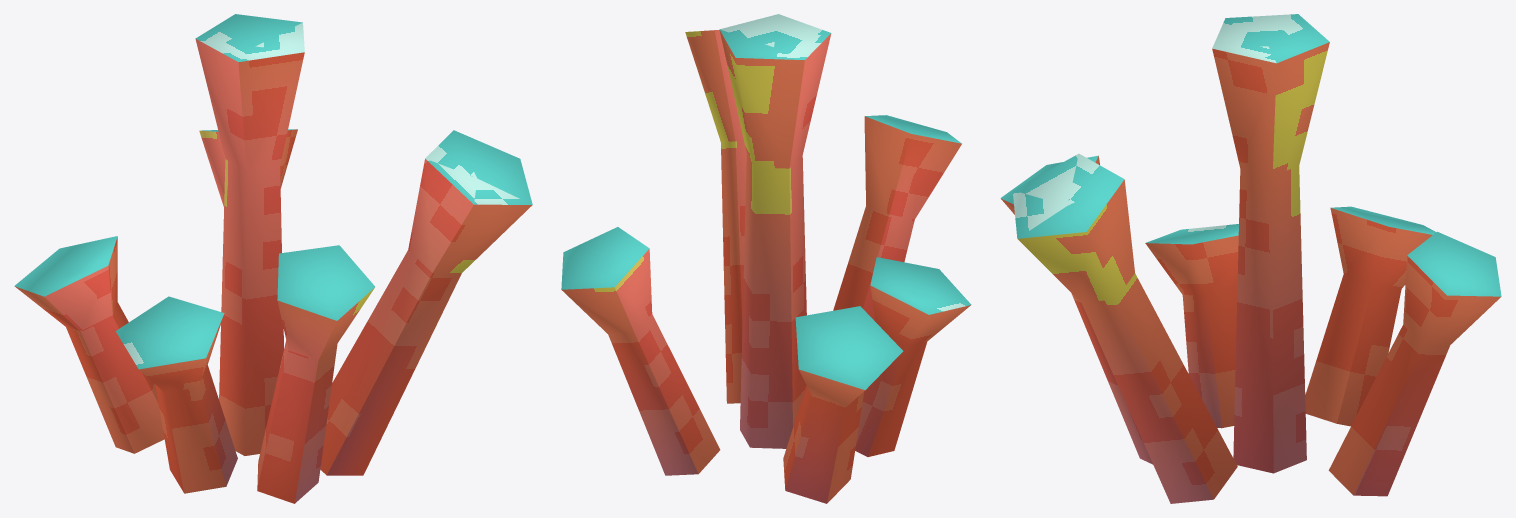
The model's file is alien.tendril.glb.
The picture shows the model from 3 angles, left to right: view 1: azimuth 30°, elevation 25°; view 2: azimuth 150°, elevation 25°; view 3: azimuth 270°, elevation 25°; orthographic projection. The views are drawn at different scales.
Visible parts, largest first — view 1: kit_tube_0, kit_tube_5, kit_tube_4, kit_tube_2, kit_tube_3, kit_tube_1; view 2: kit_tube_0, kit_tube_1, kit_tube_2, kit_tube_4, kit_tube_3, kit_tube_5; view 3: kit_tube_0, kit_tube_5, kit_tube_1, kit_tube_2, kit_tube_3, kit_tube_4.
Part boxes in pixels (x1=…): kit_tube_0: x1=195, y1=14, x2=304, y2=455; kit_tube_5: x1=320, y1=130, x2=532, y2=475; kit_tube_4: x1=257, y1=245, x2=374, y2=503; kit_tube_2: x1=14, y1=236, x2=164, y2=453; kit_tube_3: x1=116, y1=296, x2=237, y2=493; kit_tube_1: x1=199, y1=129, x2=297, y2=206; kit_tube_0: x1=719, y1=14, x2=831, y2=448; kit_tube_1: x1=561, y1=227, x2=720, y2=475; kit_tube_2: x1=783, y1=306, x2=903, y2=503; kit_tube_4: x1=833, y1=115, x2=961, y2=321; kit_tube_3: x1=855, y1=257, x2=971, y2=456; kit_tube_5: x1=685, y1=30, x2=746, y2=403; kit_tube_0: x1=1212, y1=14, x2=1329, y2=473; kit_tube_5: x1=1012, y1=153, x2=1237, y2=503; kit_tube_1: x1=1328, y1=231, x2=1501, y2=496; kit_tube_2: x1=1305, y1=206, x2=1436, y2=426; kit_tube_3: x1=1145, y1=224, x2=1238, y2=428; kit_tube_4: x1=1000, y1=155, x2=1152, y2=464.
Size of the model in its own units: 1.27 by 1.45 by 1.51.
2 materials, 2 textured.
